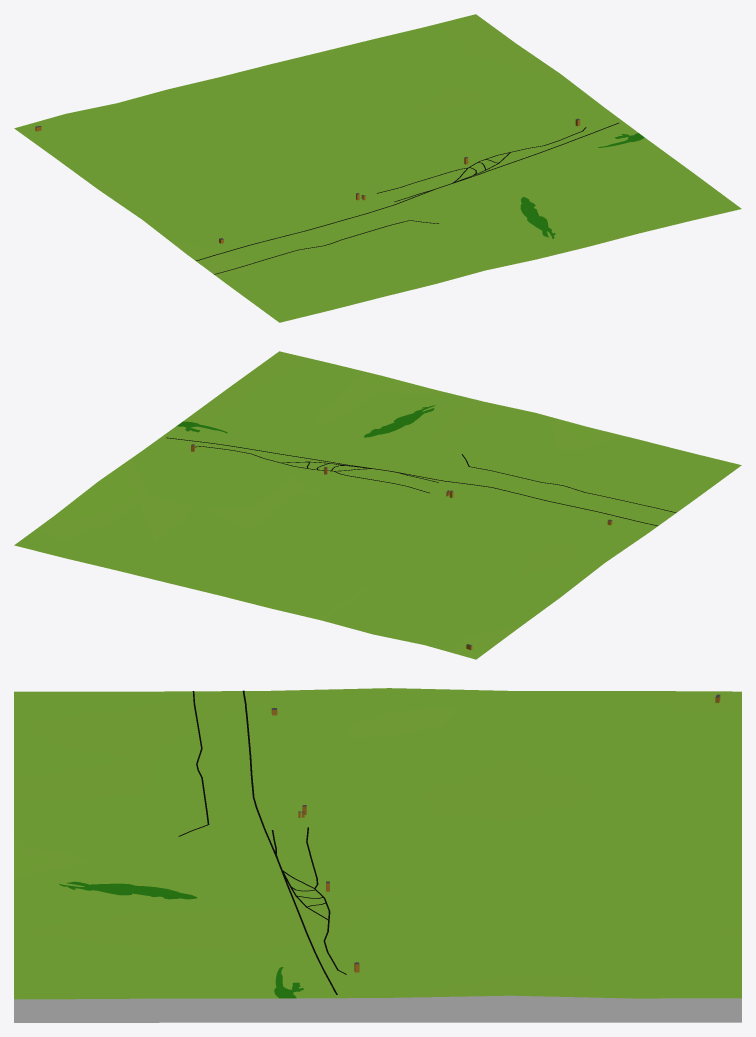
File: tile_11_01.glb
3 renders of one model, top to bottom at view 1: azimuth 30°, elevation 25°; view 2: azimuth 150°, elevation 25°; view 3: azimuth 270°, elevation 25°, orthographic. The views are drawn at different scales.
Visible parts, largest first — view 1: Terrain_11_01, Ub_small.osm_forest_11_01, Ub_small.osm_paths_footway_11_01, Ub_small.osm_paths_cycleway_11_01; view 2: Terrain_11_01, Ub_small.osm_forest_11_01, Ub_small.osm_paths_footway_11_01, Ub_small.osm_paths_cycleway_11_01; view 3: Terrain_11_01, Ub_small.osm_forest_11_01, Ub_small.osm_paths_footway_11_01, Ub_small.osm_paths_cycleway_11_01.
Boxes of the visible parts, <box> form: Terrain_11_01: <box>14,14,741,322</box>; Ub_small.osm_forest_11_01: <box>520,133,644,238</box>; Ub_small.osm_paths_footway_11_01: <box>214,127,586,274</box>; Ub_small.osm_paths_cycleway_11_01: <box>196,122,618,260</box>; Terrain_11_01: <box>14,351,741,659</box>; Ub_small.osm_forest_11_01: <box>177,405,435,437</box>; Ub_small.osm_paths_footway_11_01: <box>195,446,676,512</box>; Ub_small.osm_paths_cycleway_11_01: <box>166,437,657,525</box>; Terrain_11_01: <box>14,688,741,1022</box>; Ub_small.osm_forest_11_01: <box>59,881,303,998</box>; Ub_small.osm_paths_footway_11_01: <box>178,691,346,974</box>; Ub_small.osm_paths_cycleway_11_01: <box>242,690,337,994</box>.
Size of the model in its own units: 935 by 47.19 by 930.
